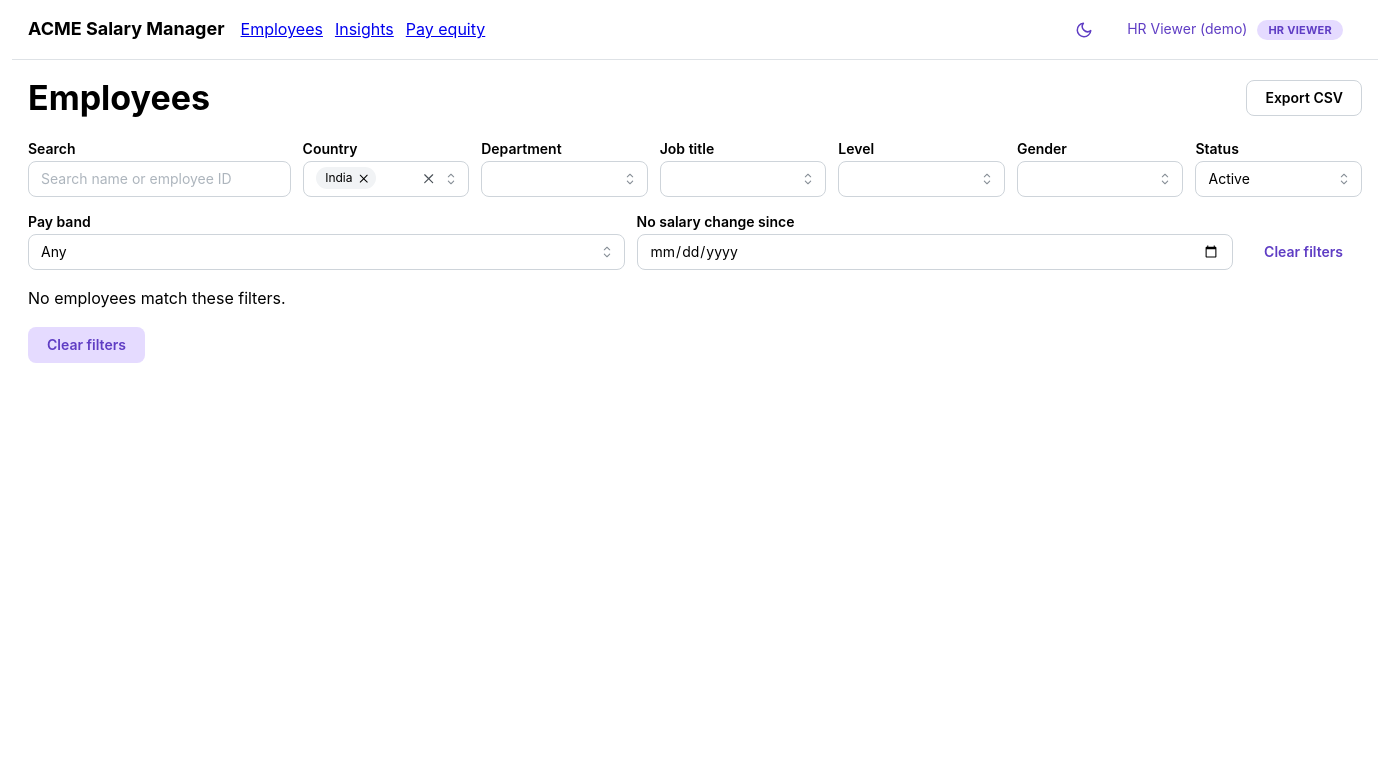
Test: sorting, unrecognised URL values and the empty filtered state (04 section 8.5) › shows "No employees match these filters." with "Clear filters" for an empty filtered result
Expected: the text "No employees yet." is not shown
Click the button "Clear filters" below "No employees match these filters." at x=86, y=345, box [28, 327, 145, 363]
(page scrolled)
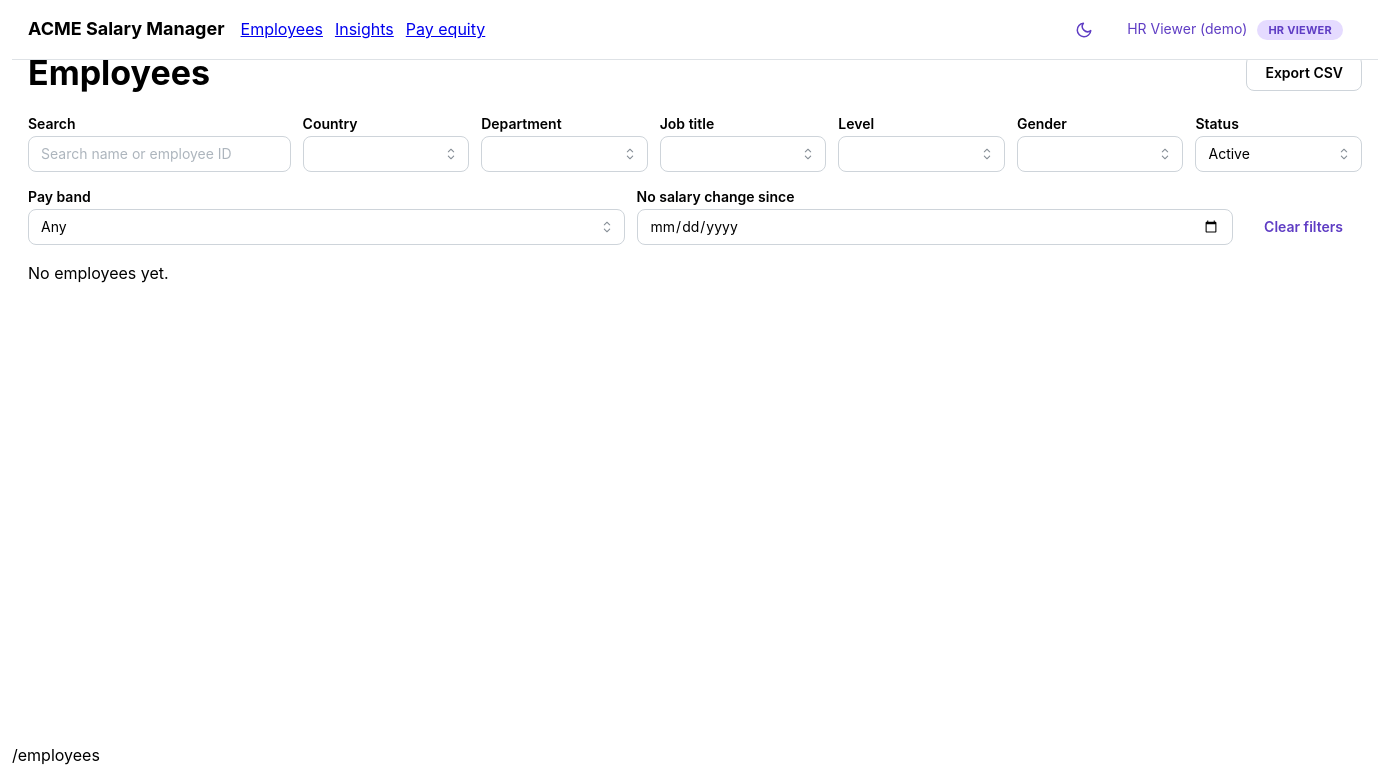
Expected: the text named "location" reads "/employees", [12, 745, 100, 765]
